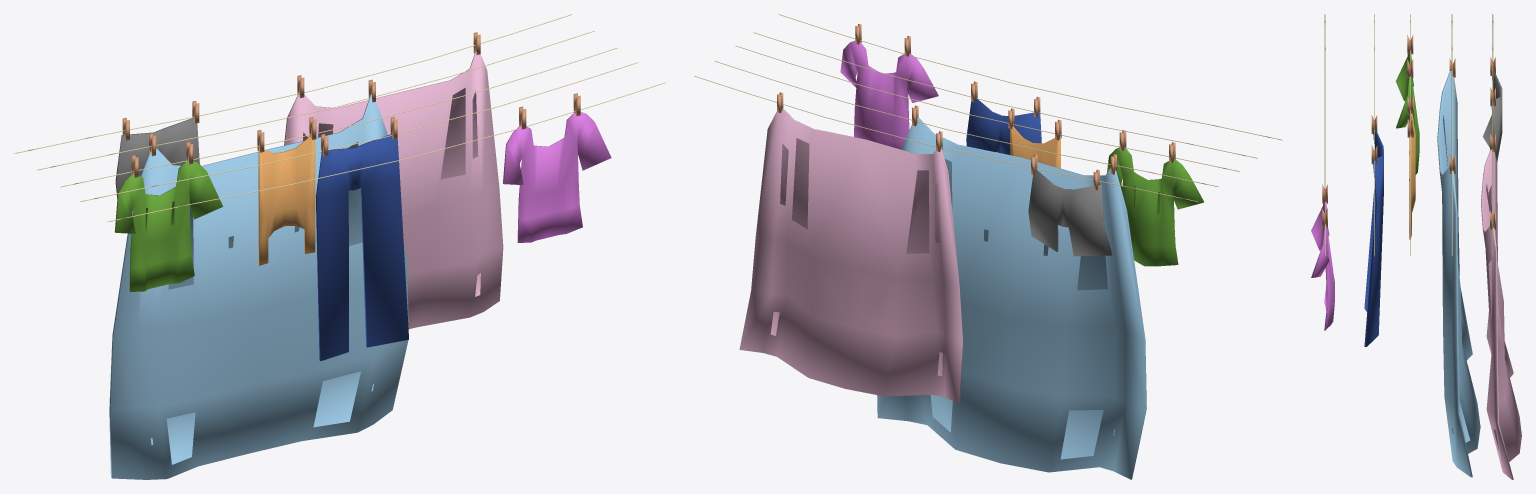
File: Laundry.fbx
The picture shows the model from 3 angles, left to right: view 1: azimuth 30°, elevation 25°; view 2: azimuth 150°, elevation 25°; view 3: azimuth 270°, elevation 25°; orthographic projection. The views are drawn at different scales.
Parts seen in each view (by area): view 1: Rope_04, Rope_05, Rope_02, Rope_03, Rope_01; view 2: Rope_05, Rope_04, Rope_03, Rope_01, Rope_02; view 3: Rope_04, Rope_05, Rope_02, Rope_03, Rope_01.
Part boxes in pixels (x1,y1,x2,y2): Rope_04: (37, 30, 594, 479); Rope_05: (14, 14, 572, 328); Rope_02: (80, 62, 638, 360); Rope_03: (60, 47, 617, 291); Rope_01: (107, 82, 665, 242); Rope_05: (694, 76, 1198, 403); Rope_04: (714, 61, 1218, 479); Rope_03: (735, 45, 1239, 266); Rope_01: (778, 14, 1282, 149); Rope_02: (753, 32, 1257, 158); Rope_04: (1437, 14, 1480, 477); Rope_05: (1481, 14, 1521, 479); Rope_02: (1364, 14, 1383, 346); Rope_03: (1395, 14, 1419, 256); Rope_01: (1311, 14, 1334, 330).
Size of the model in its own units: 406 by 251 by 148.
